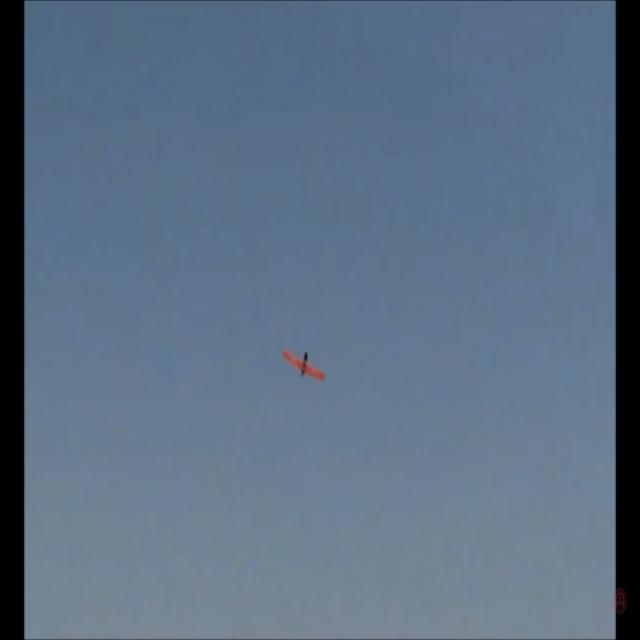iha: (281, 347, 325, 382)
